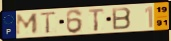1: (145, 5, 154, 29)
6: (65, 8, 84, 35)
B: (111, 7, 133, 31)
M: (14, 13, 39, 36)
T: (39, 11, 58, 35), (87, 8, 105, 33)
